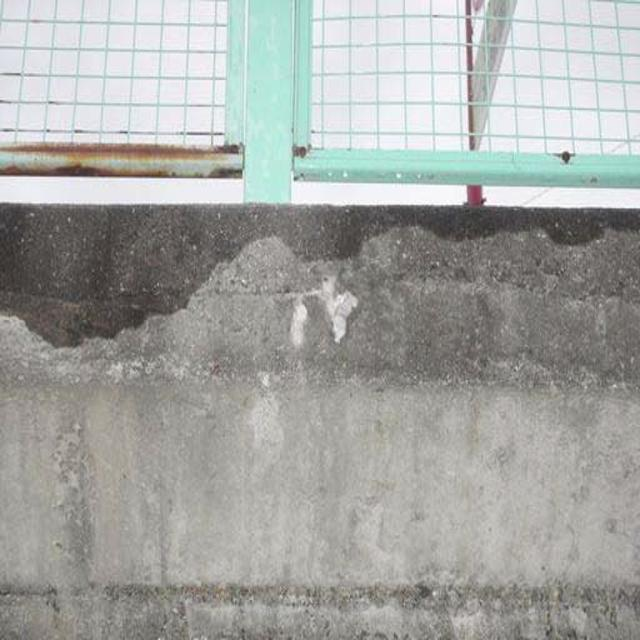freelime: (288, 261, 366, 356)
leakage: (7, 194, 246, 346), (394, 180, 622, 261)
